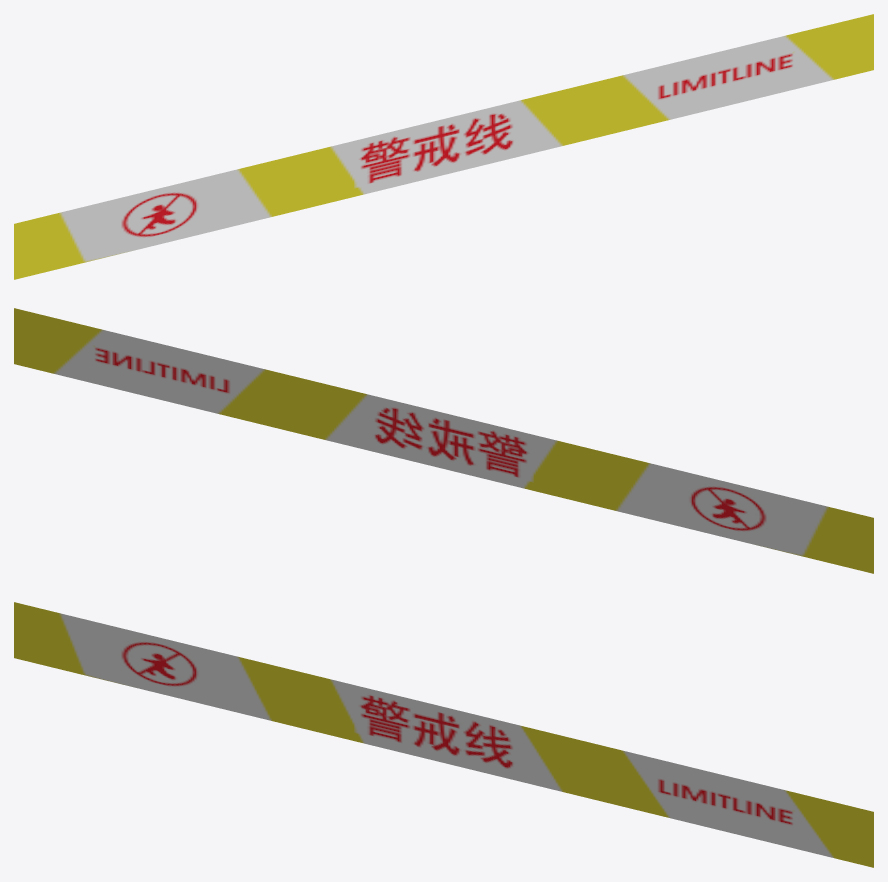
File: jingjiexian.fbx
The picture shows the model from 3 angles, top to bottom: view 1: azimuth 30°, elevation 25°; view 2: azimuth 150°, elevation 25°; view 3: azimuth 330°, elevation 25°; orthographic projection.
Parts seen in each view (by area): view 1: pPlane1; view 2: pPlane1; view 3: pPlane1.
Part boxes in pixels (x1=…): pPlane1: x1=14, y1=14, x2=873, y2=279; pPlane1: x1=14, y1=308, x2=873, y2=573; pPlane1: x1=14, y1=602, x2=873, y2=867.
Bounding box in the file's own units: 32.09 × 2 × 9.96e-17.
Materials: 1 (1 with a texture image).
